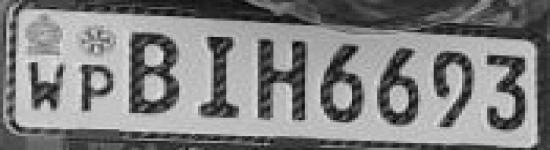3: (478, 47, 532, 137)
6: (314, 35, 370, 133), (370, 45, 430, 134)
9: (432, 44, 477, 135)
B: (124, 28, 186, 120)
H: (250, 34, 313, 130)
I: (194, 29, 250, 124)
P: (76, 60, 116, 116)
W: (23, 56, 69, 115)
